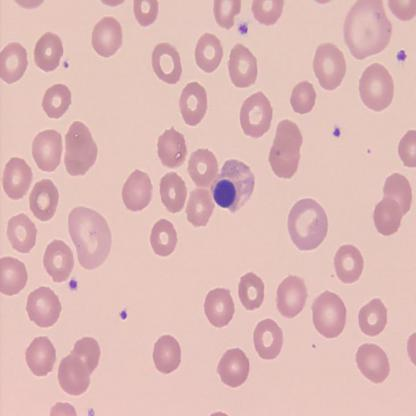NRC: (212, 178, 238, 210)
